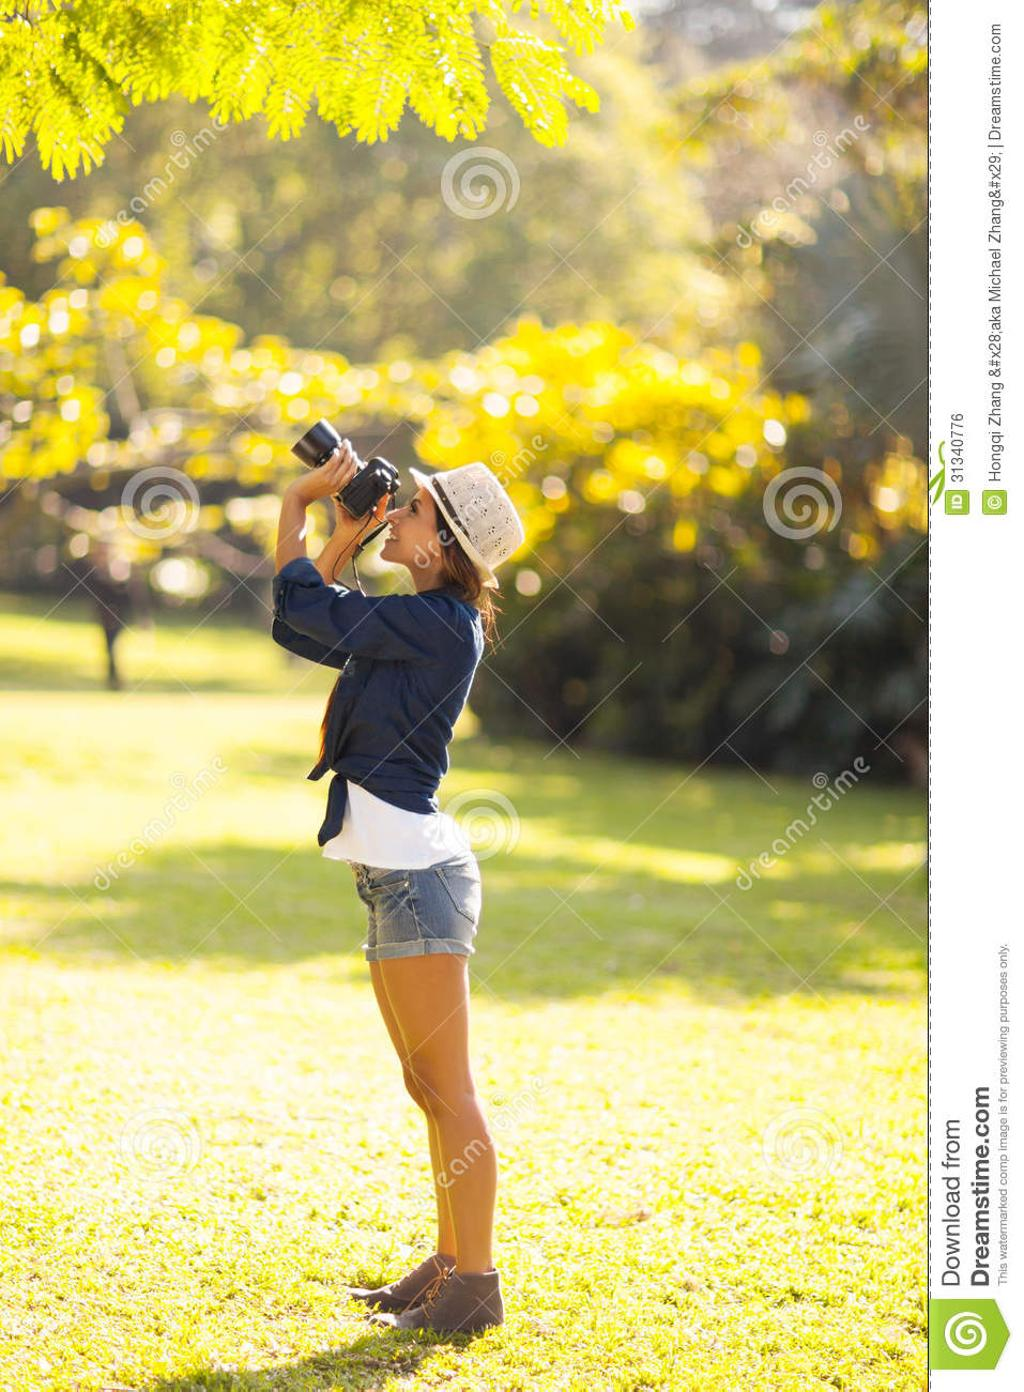face: (378, 473, 473, 565)
